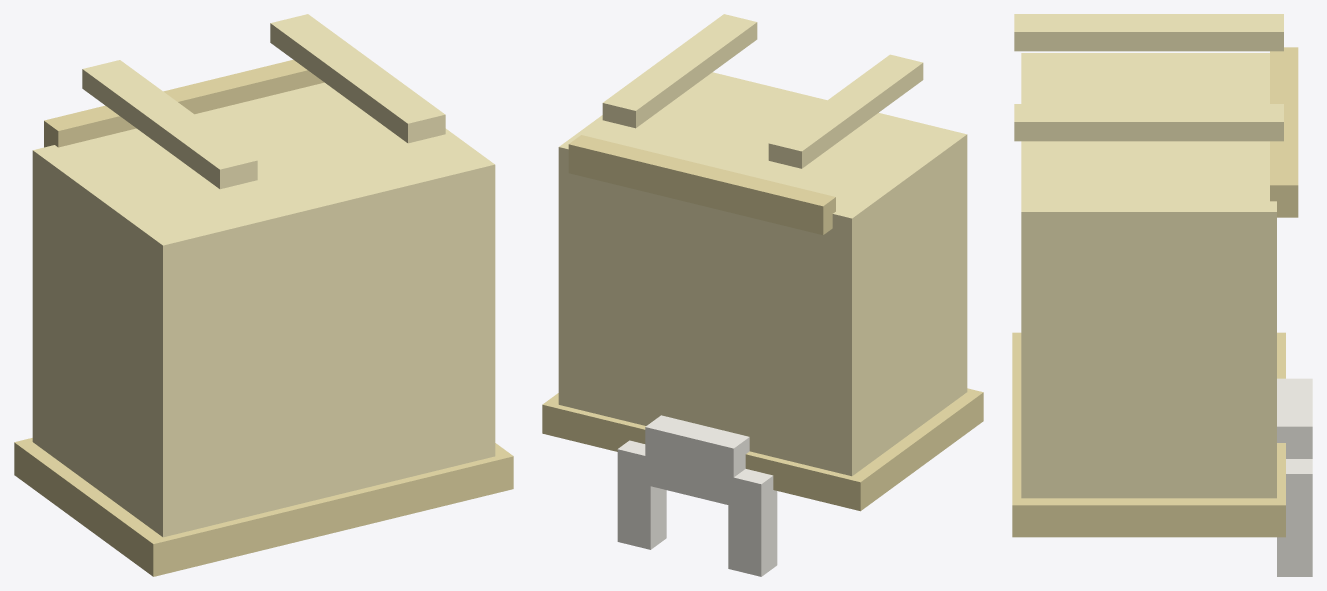
The model's file is vestido_verao_tronco.glb.
The picture shows the model from 3 angles, left to right: view 1: azimuth 30°, elevation 25°; view 2: azimuth 150°, elevation 25°; view 3: azimuth 270°, elevation 25°; orthographic projection. The views are drawn at different scales.
Visible parts, largest first — view 1: vestido_verao_tronco; view 2: vestido_verao_tronco; view 3: vestido_verao_tronco.
Part boxes in pixels (bbox=[...]): vestido_verao_tronco: bbox=[14, 14, 513, 576]; vestido_verao_tronco: bbox=[542, 14, 983, 576]; vestido_verao_tronco: bbox=[1012, 14, 1312, 576].
Size of the model in its own units: 0.575 by 0.73 by 0.4225.
